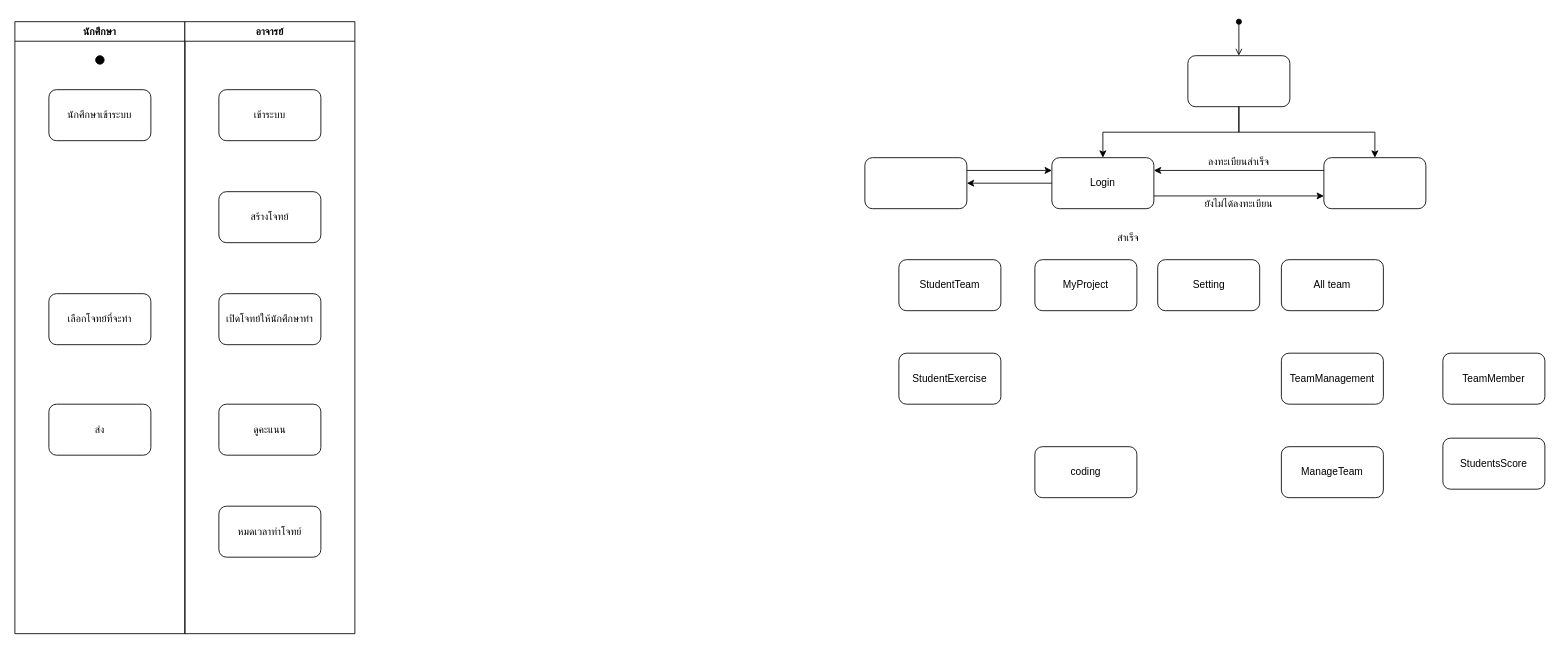
Some shapes in this 1560 by 649 pixel diagram are drawn without their labels. The shapes that lost their labels are listed below. From the top down, each one's centre as x and y in pixels, then its label:
At point (1238, 81): "เข้า Home page".
At point (915, 183): "Forget Password".
At point (1374, 183): "Signup".
